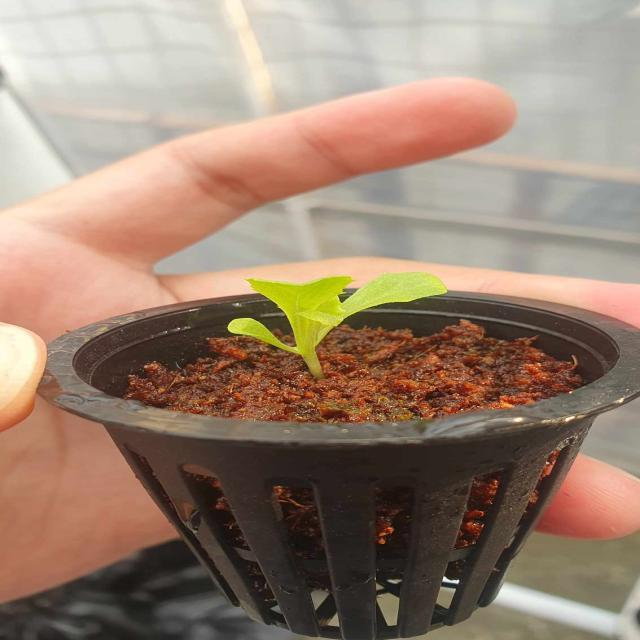Lettuce-Not-Ready-to-Harvest: (227, 272, 449, 379)
